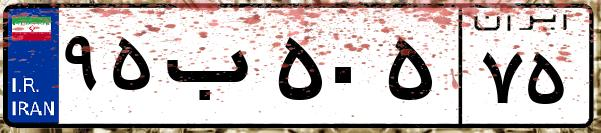0: (330, 28, 385, 110)
5: (270, 28, 330, 110), (385, 28, 445, 110), (525, 38, 570, 115), (110, 28, 158, 98)
7: (475, 38, 525, 113)
9: (57, 26, 110, 100)
ب: (158, 20, 270, 120)
